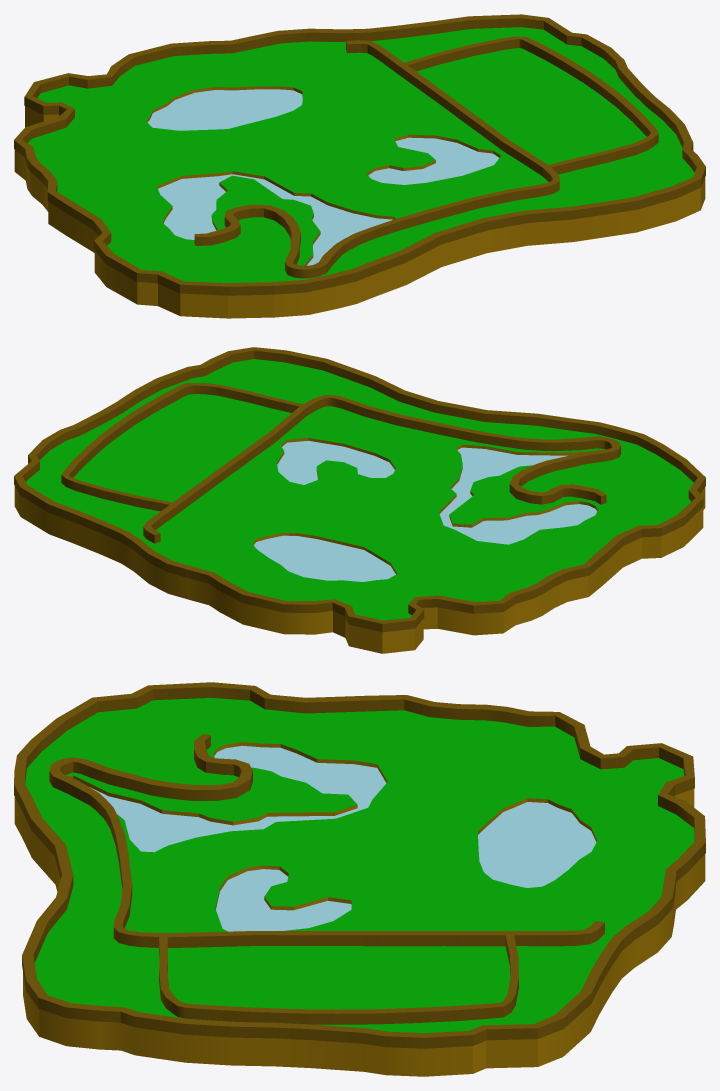
Rendered from level2.fbx.
The picture shows the model from 3 angles, top to bottom: view 1: azimuth 30°, elevation 25°; view 2: azimuth 150°, elevation 25°; view 3: azimuth 270°, elevation 25°; orthographic projection. The views are drawn at different scales.
Parts seen in each view (by area): view 1: groundMesh, wallMesh, fenceMesh, water2Mesh, water1Mesh, water3Mesh, fenceDoorMesh; view 2: groundMesh, wallMesh, fenceMesh, water2Mesh, water1Mesh, water3Mesh, fenceDoorMesh; view 3: groundMesh, wallMesh, fenceMesh, water2Mesh, water1Mesh, water3Mesh, fenceDoorMesh.
Part boxes in pixels (bbox=[...]): groundMesh: bbox=[14, 27, 705, 318]; wallMesh: bbox=[14, 14, 705, 295]; fenceMesh: bbox=[194, 36, 658, 278]; water2Mesh: bbox=[158, 174, 392, 265]; water1Mesh: bbox=[147, 89, 302, 130]; water3Mesh: bbox=[368, 137, 498, 184]; fenceDoorMesh: bbox=[418, 78, 478, 128]; groundMesh: bbox=[14, 359, 705, 653]; wallMesh: bbox=[14, 347, 705, 632]; fenceMesh: bbox=[61, 383, 620, 543]; water2Mesh: bbox=[439, 447, 596, 544]; water1Mesh: bbox=[253, 535, 395, 581]; water3Mesh: bbox=[277, 440, 394, 484]; fenceDoorMesh: bbox=[189, 453, 247, 499]; groundMesh: bbox=[14, 698, 705, 1076]; wallMesh: bbox=[14, 682, 705, 1048]; fenceMesh: bbox=[49, 734, 604, 1024]; water2Mesh: bbox=[90, 745, 386, 852]; water1Mesh: bbox=[478, 802, 596, 887]; water3Mesh: bbox=[216, 869, 351, 931]; fenceDoorMesh: bbox=[328, 931, 462, 946].
Size of the model in its own units: 144 by 7.4 by 118.
